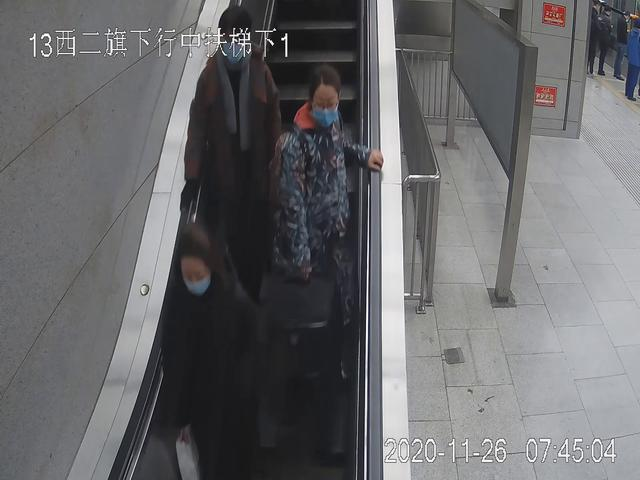person: (187, 9, 281, 402), (282, 65, 383, 401), (164, 227, 266, 480), (620, 19, 640, 102), (597, 6, 614, 76)
